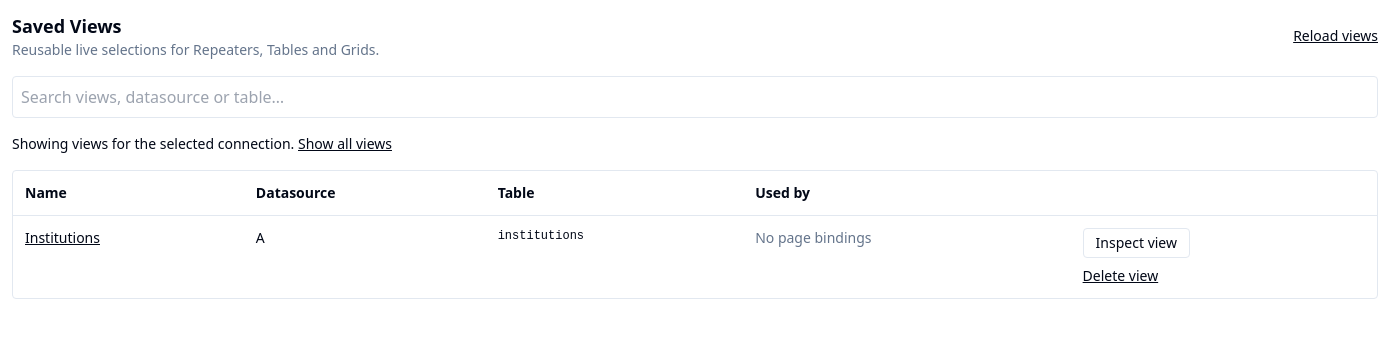
it: saved view ownership › deletes an unused view through the existing API without reloading the page
Click the button "Delete view": [1120, 276] box x1=1083 y1=266 x2=1158 y2=286
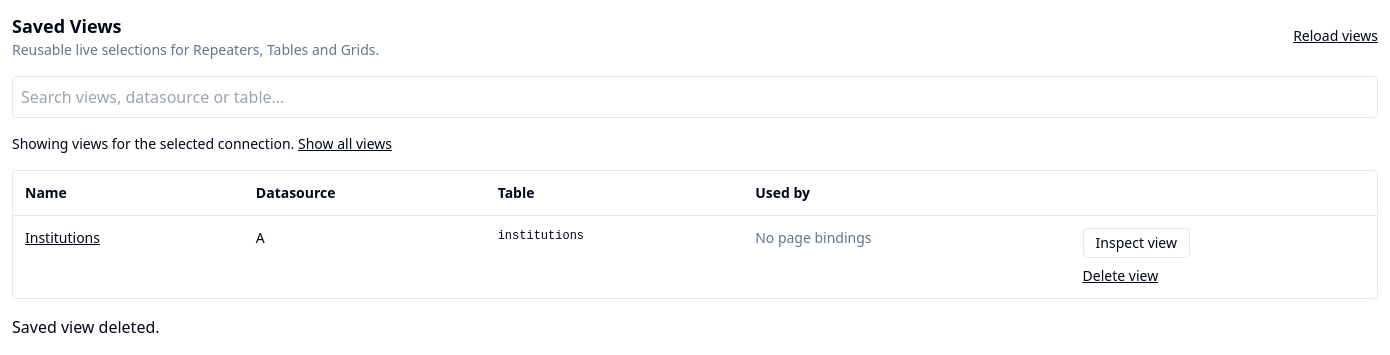
Expected: the text "Saved view deleted." is shown, x1=12 y1=316 x2=160 y2=338
